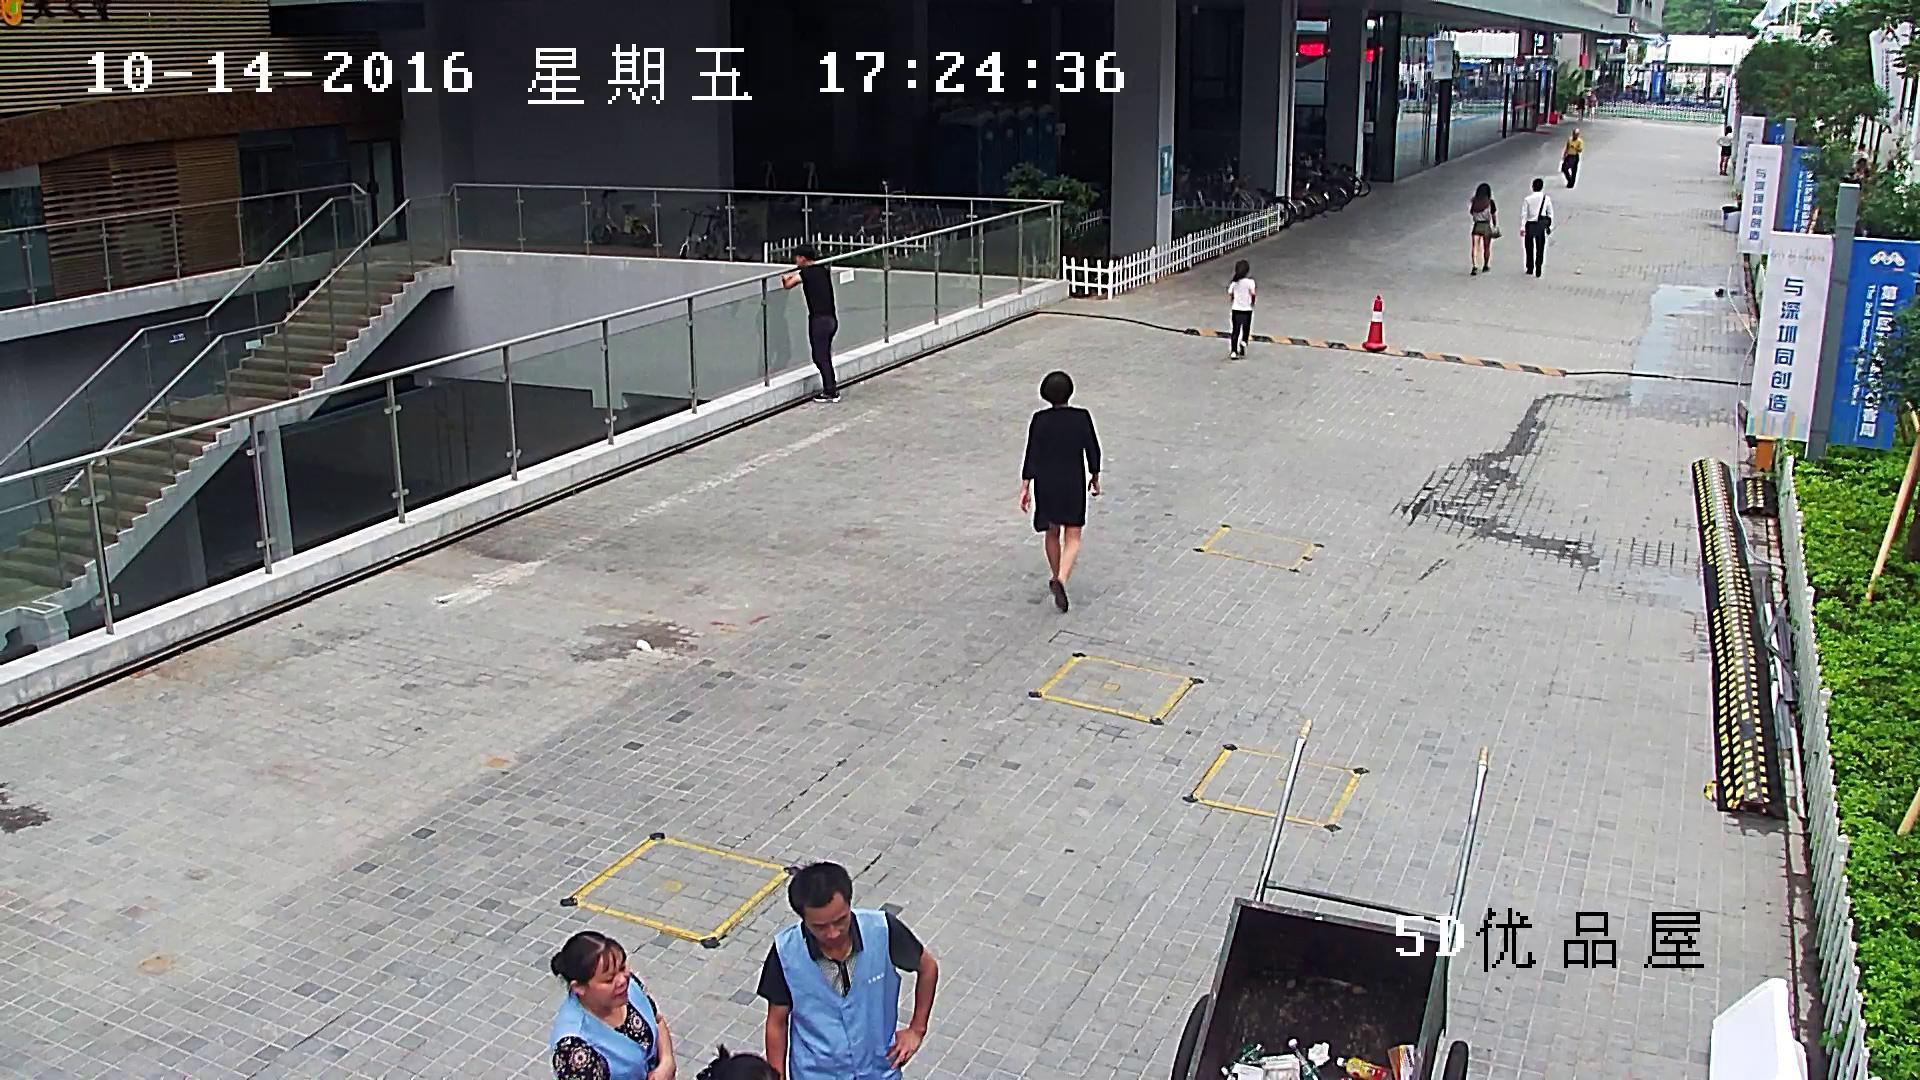person: (755, 859, 943, 1080), (1012, 365, 1105, 619), (543, 926, 678, 1080), (778, 241, 844, 407), (1517, 176, 1555, 279), (1464, 180, 1502, 277), (1225, 256, 1259, 362), (1560, 127, 1585, 190), (1716, 123, 1735, 176), (1852, 139, 1871, 168), (1587, 88, 1597, 120), (1575, 90, 1584, 121)
